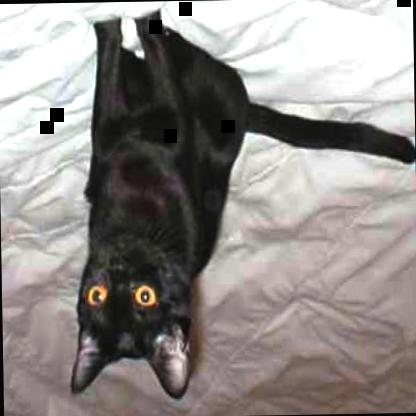cat: (63, 4, 415, 404)
